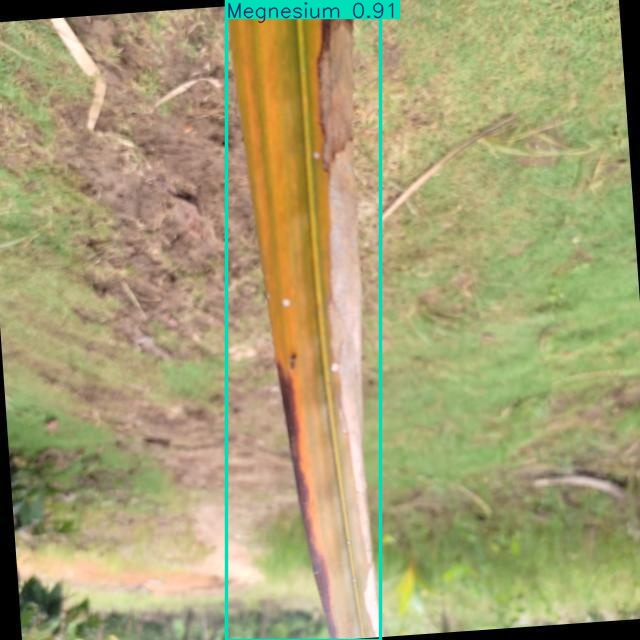Megnesium: (227, 0, 380, 640)
